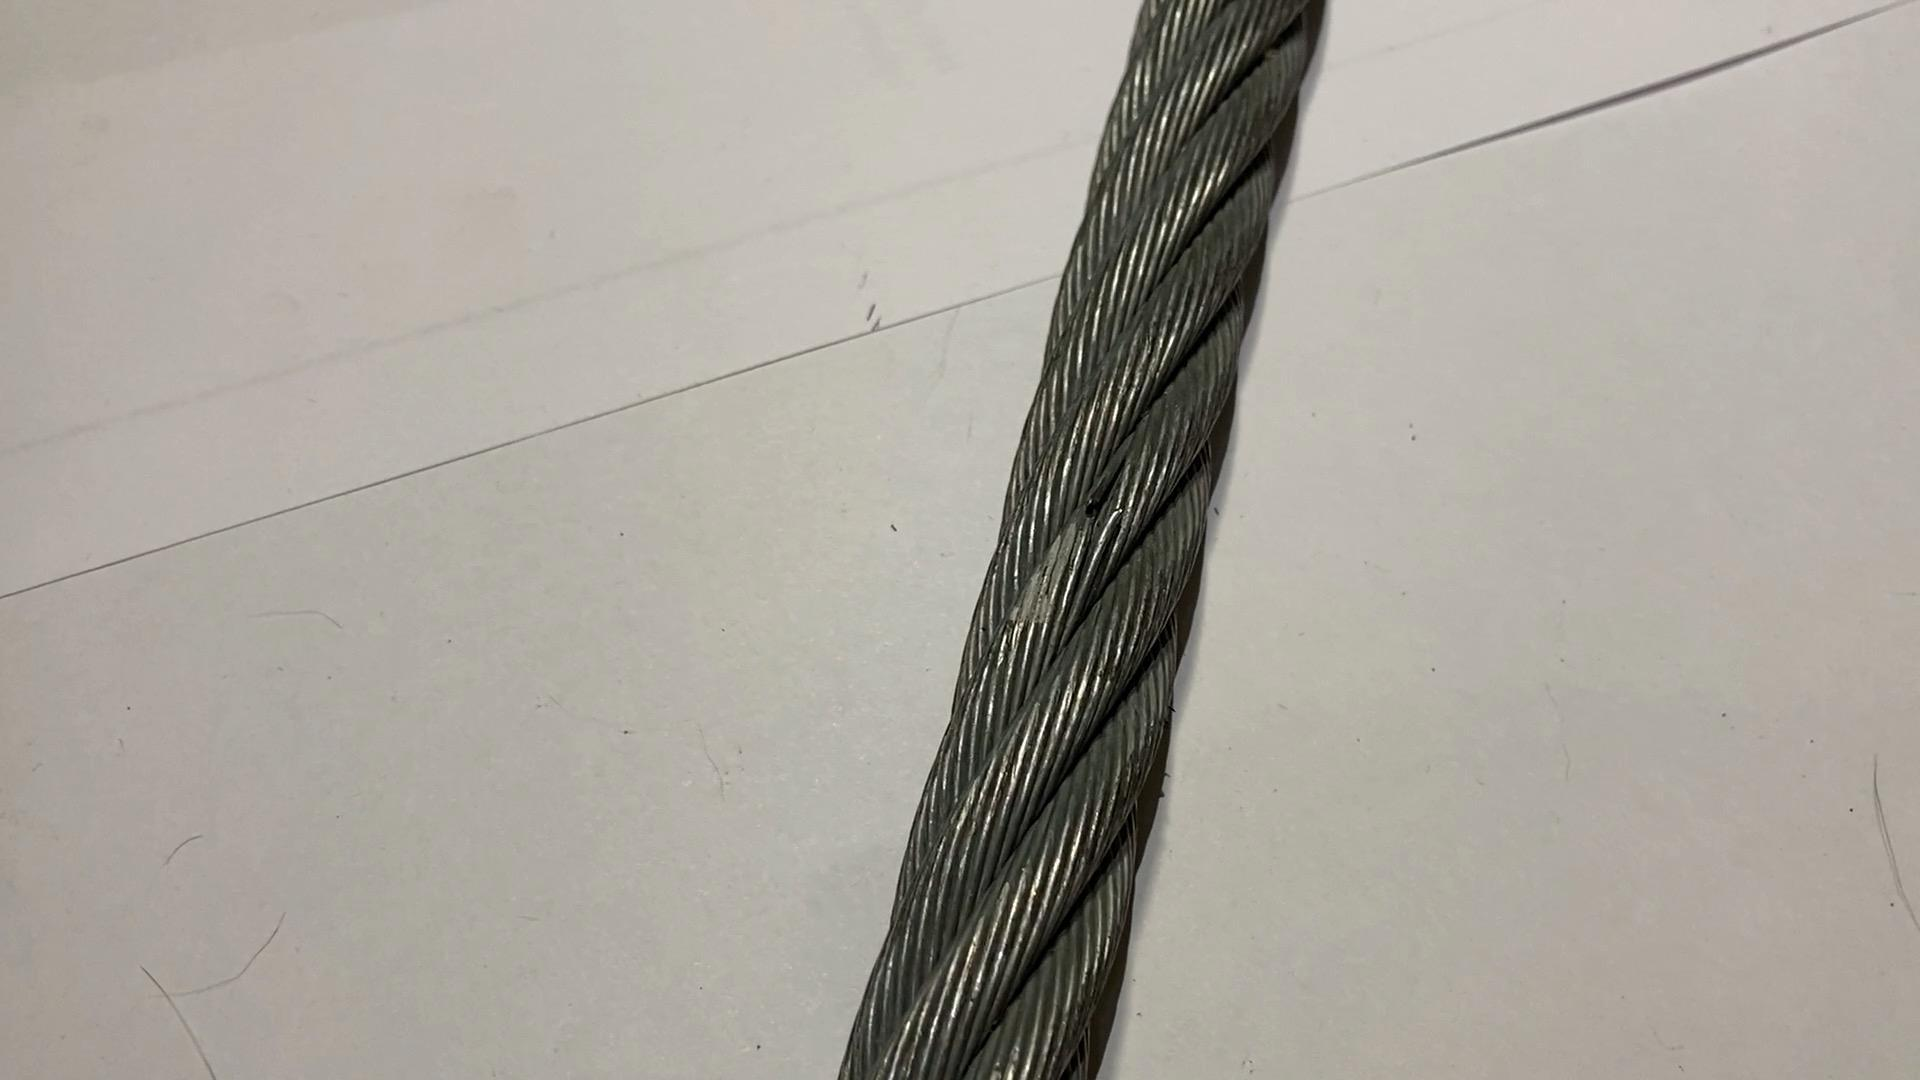break: (1062, 454, 1143, 537)
